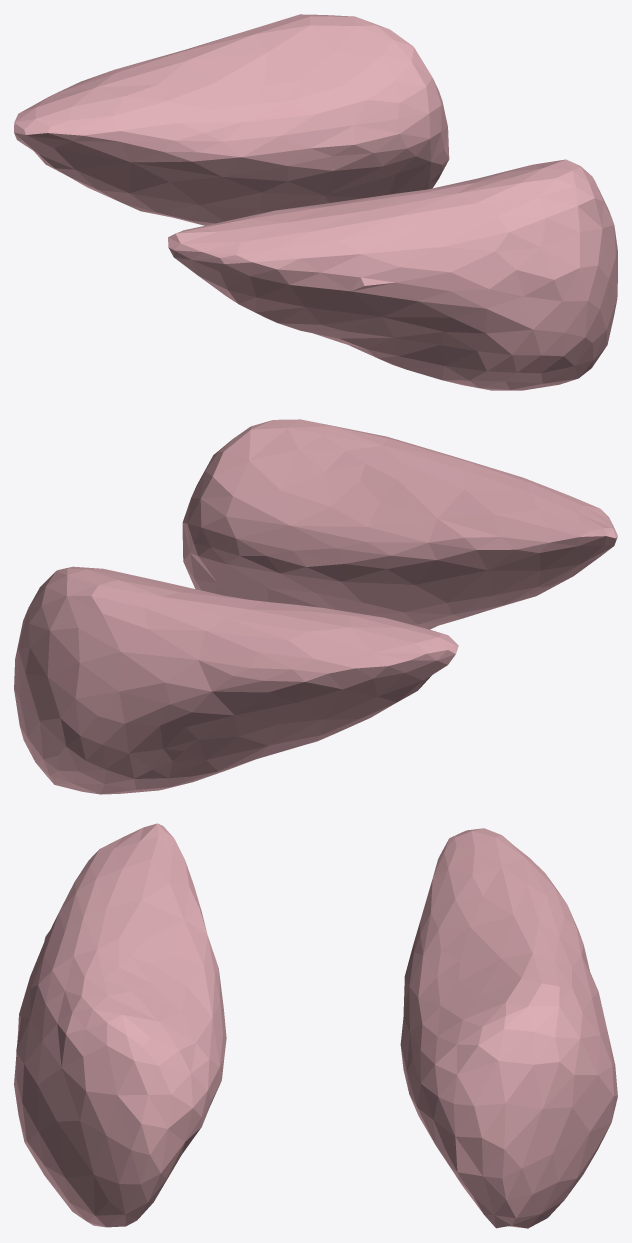
3 views of the same model, one above another, from view 1: azimuth 30°, elevation 25°; view 2: azimuth 150°, elevation 25°; view 3: azimuth 270°, elevation 25° (orthographic). The views are drawn at different scales.
Visible parts, largest first — view 1: 186.obj; view 2: 186.obj; view 3: 186.obj.
Part boxes in pixels (<box>): 186.obj: <box>14,14,617,390</box>; 186.obj: <box>14,419,617,794</box>; 186.obj: <box>14,823,617,1228</box>.
Bounding box in the file's own units: 1230 × 580 × 1435.
